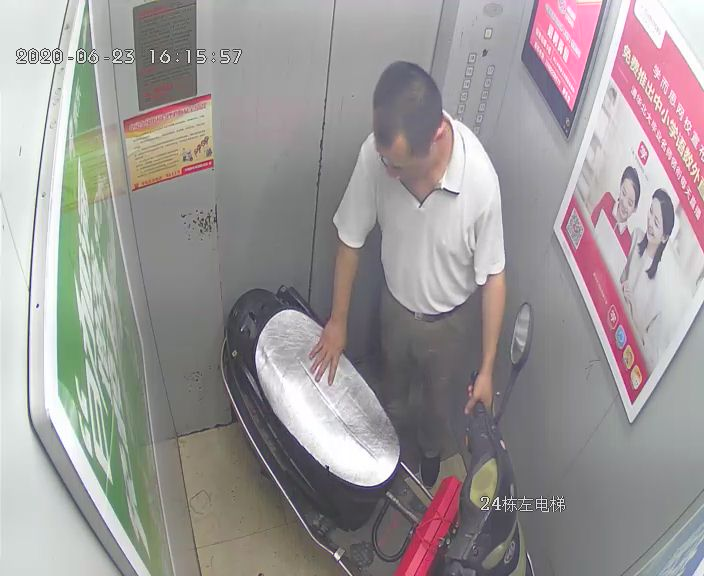Electric-bicycle: (226, 288, 534, 572)
